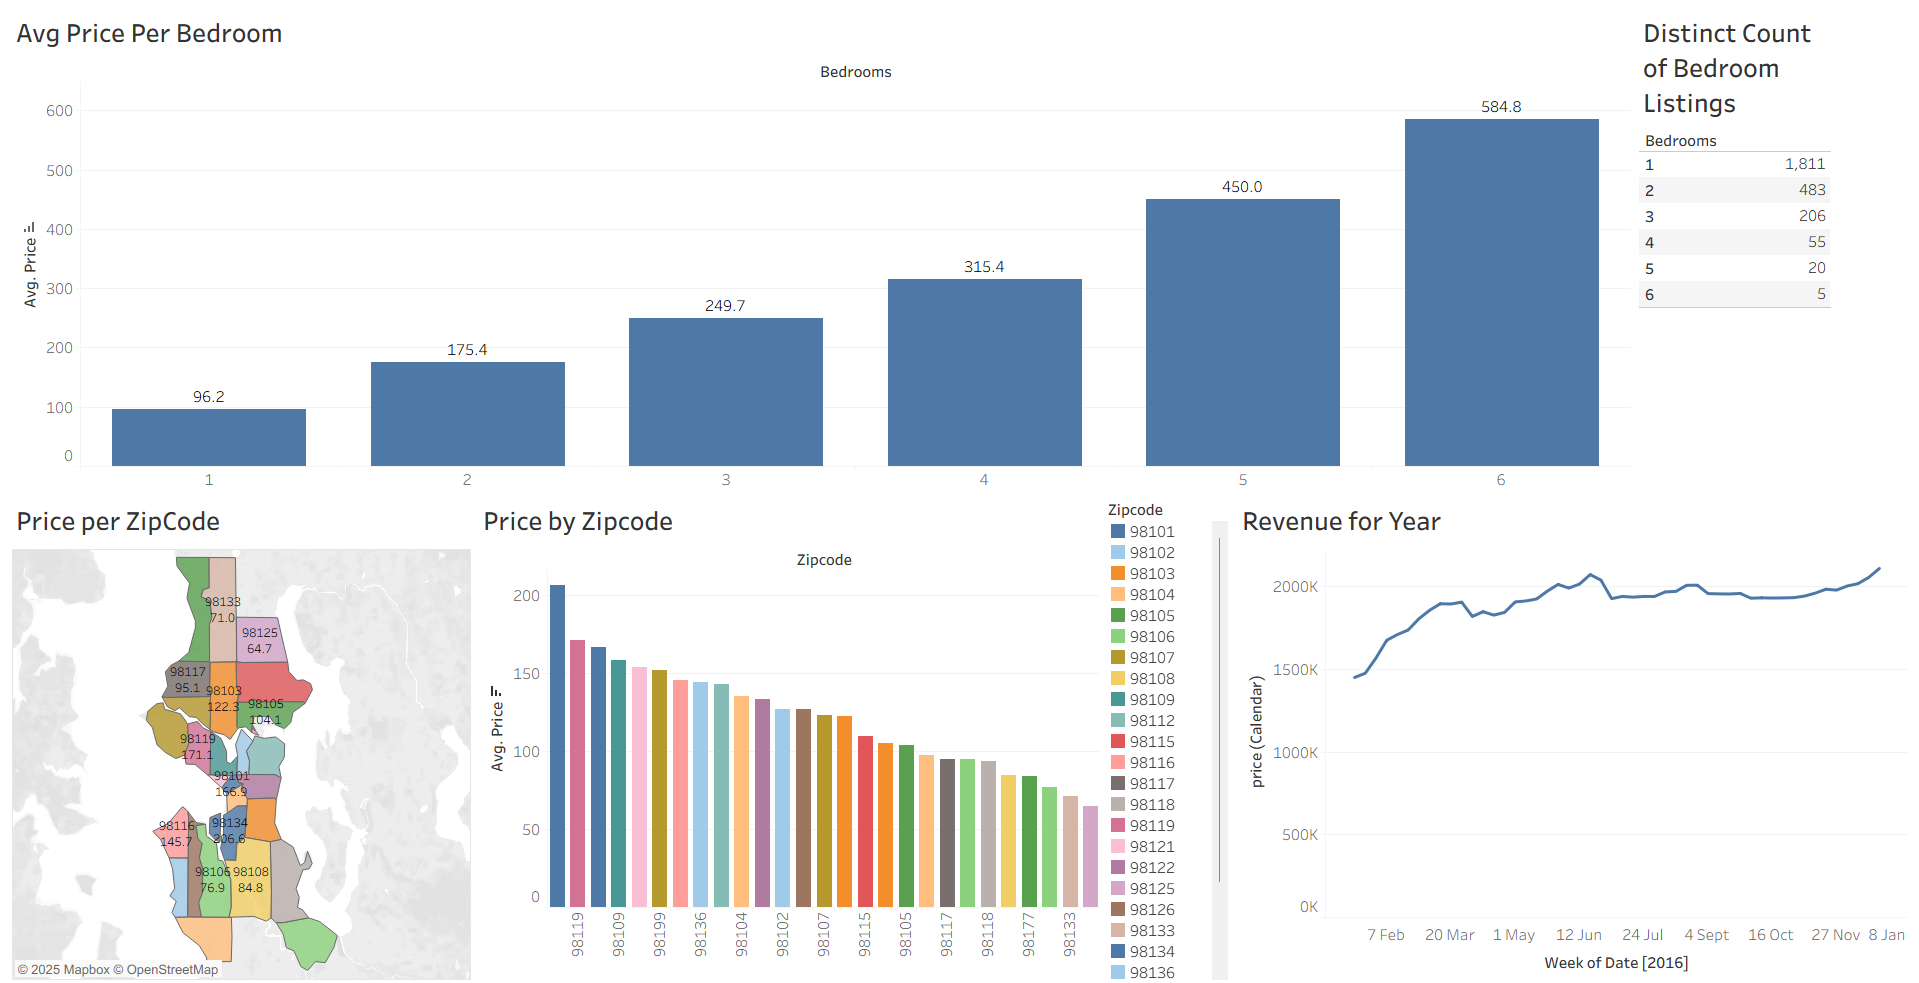

Layout of this report page (visuals, bound fields, positions):
{"tool":"tableau","page":{"name":"Dashboard 1","canvas":[1000,1000],"units":"permille","ordinal":0},"visuals":[{"type":"worksheet","title":"Sheet 4","mark":"Automatic","rows":["price"],"cols":["bedrooms"],"box":[4.8,10,846.1,490]},{"type":"worksheet","title":"Sheet 5","mark":"Automatic","rows":["bedrooms"],"box":[850.9,10,144.2,490]},{"type":"worksheet","title":"Sheet 2","mark":"Multipolygon","box":[4.8,500,242.7,490]},{"type":"worksheet","title":"Sheet 1","mark":"Automatic","rows":["price"],"cols":["zipcode"],"box":[247.6,500,327.6,490]},{"type":"legend","title":"Sheet 1","param":"[federated.1ai48hd1erh7ed12zpg9j1qx9y8z].[none:zipcode:ok]","box":[575.1,500,67.6,490]},{"type":"worksheet","title":"Sheet 3","mark":"Automatic","rows":["price (Calendar)"],"cols":["date"],"box":[642.7,500,352.4,490]}]}

Visuals, with their boxes on the dashboard's canvas, which has no fixed pixel size, in thousandths of its width and height (x1, y1, x2, y2). These are canvas units, not pixel positions in the 1919x983 screenshot, which may show the page scaled, cropped or inside an application window:
"Sheet 4" worksheet: left=5, top=10, right=851, bottom=500
"Sheet 5" worksheet: left=851, top=10, right=995, bottom=500
"Sheet 2" worksheet (Multipolygon marks): left=5, top=500, right=248, bottom=990
"Sheet 1" worksheet: left=248, top=500, right=575, bottom=990
"Sheet 1" legend: left=575, top=500, right=643, bottom=990
"Sheet 3" worksheet: left=643, top=500, right=995, bottom=990
